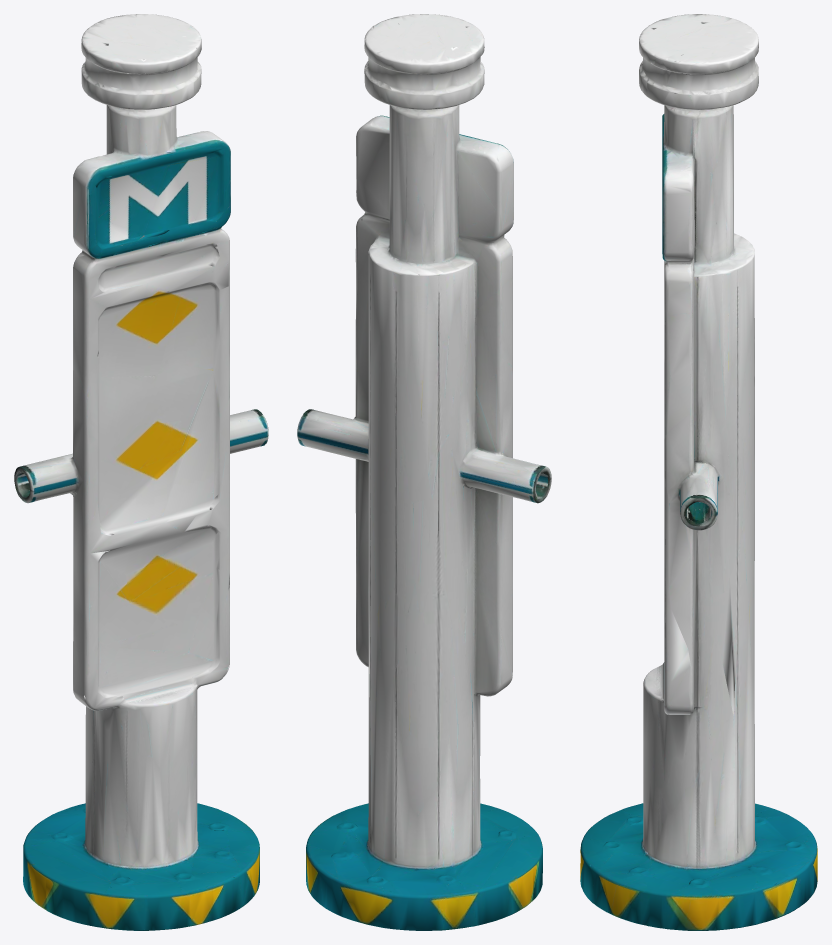
File: wayfinding_totem.glb
The picture shows the model from 3 angles, left to right: view 1: azimuth 30°, elevation 25°; view 2: azimuth 150°, elevation 25°; view 3: azimuth 270°, elevation 25°; orthographic projection.
Visible parts, largest first — view 1: Mesh_0; view 2: Mesh_0; view 3: Mesh_0.
Boxes of the visible parts, <box> form: Mesh_0: <box>14,14,268,930</box>; Mesh_0: <box>297,14,551,930</box>; Mesh_0: <box>580,14,817,930</box>.
Bounding box in the file's own units: 0.0265 × 0.09 × 0.023.
1 material, 1 textured.
